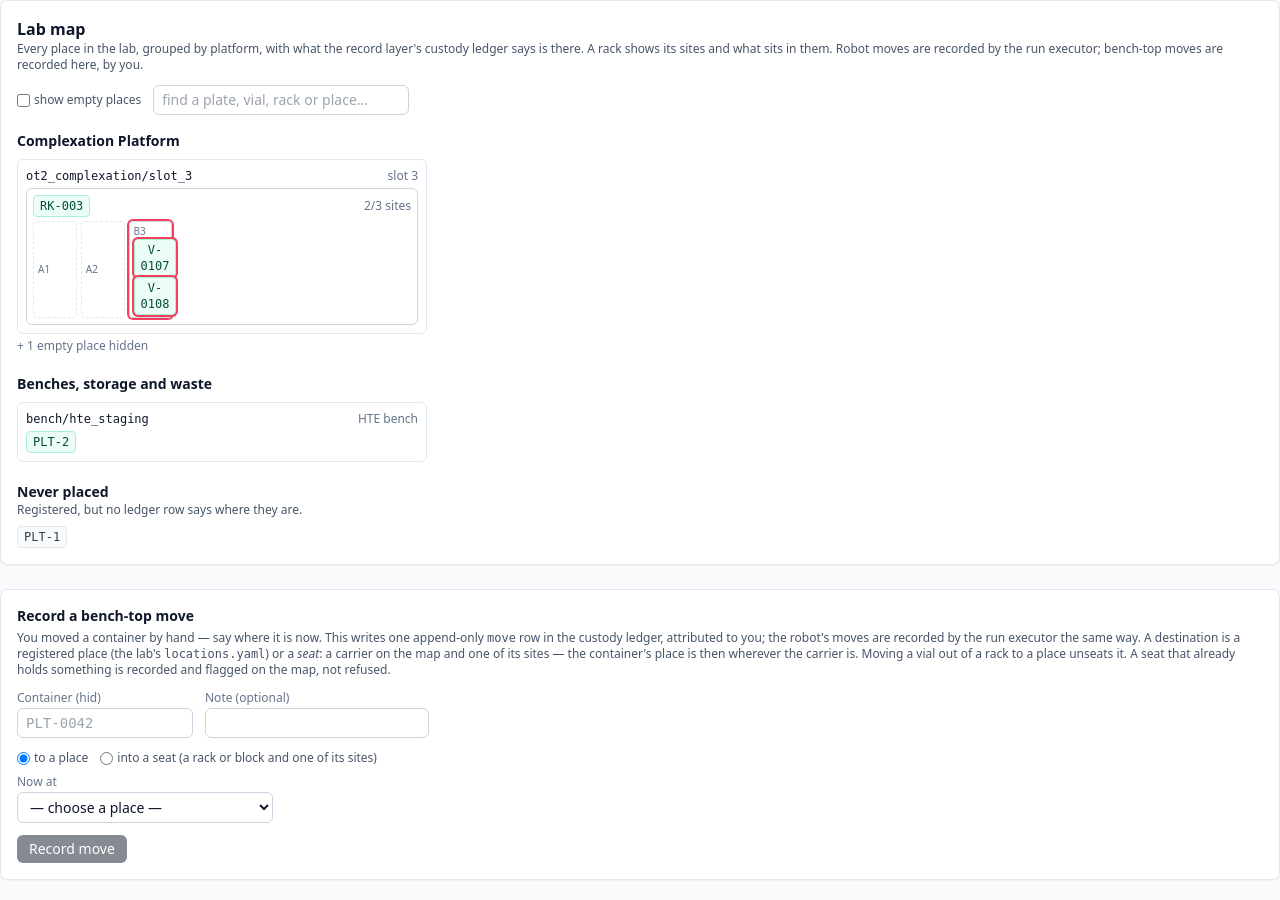
PlatesPanel (lab map) › finds a vial by hid through its rack and a place by name
The width and height of the screenshot is (1280, 900).
Expected: the button "PLT-2" is shown, x1=26 y1=431 x2=76 y2=453
Type "v-0108" into the field named "Find a container or place" at (281, 100), box x1=153 y1=85 x2=409 y2=115
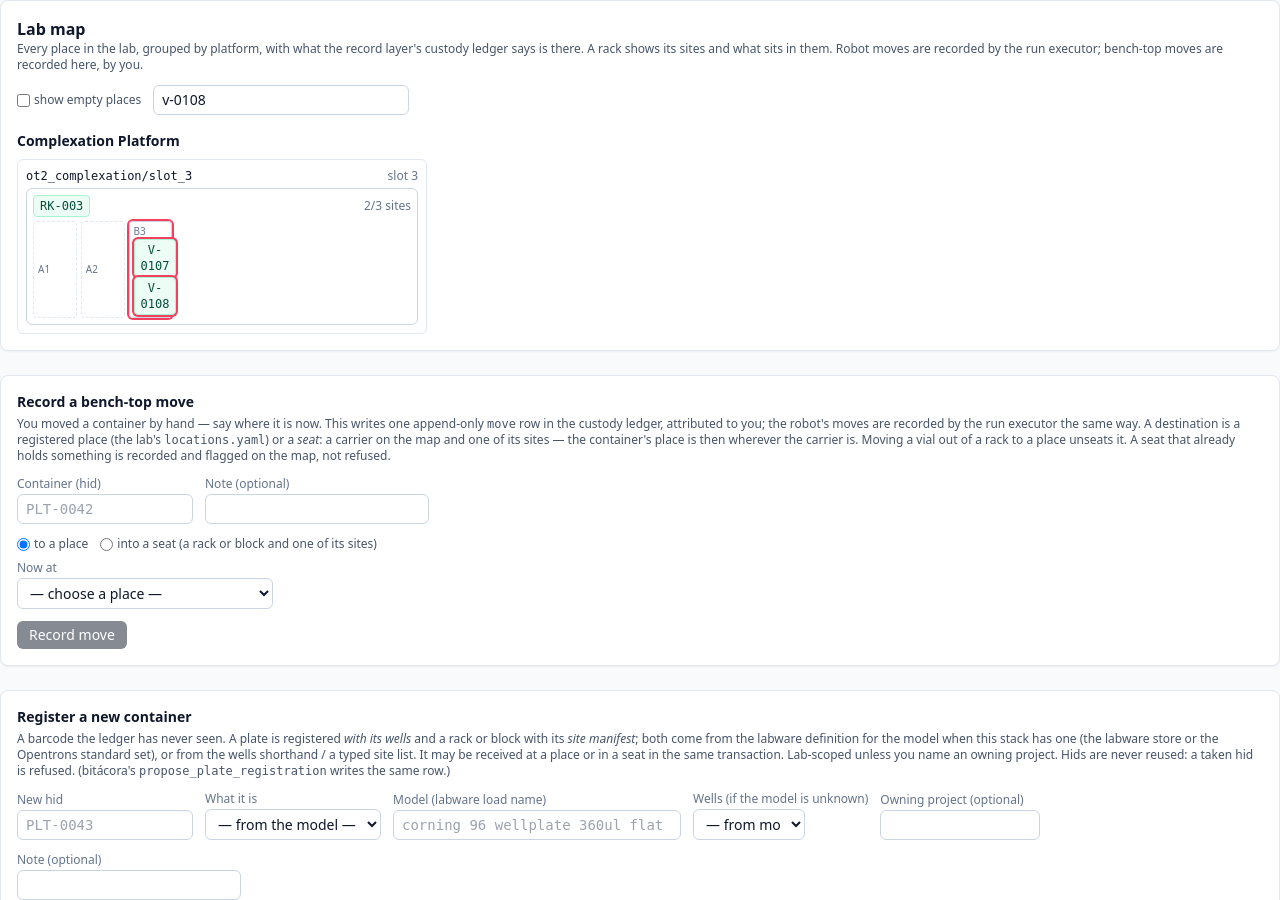
Expected: the element with test id "adapter-RK-003" is shown, x1=26 y1=188 x2=418 y2=325
Expected: the button "PLT-2" is gone
Expected: the heading "Never placed" is gone
Replace the text in the field named "Find a container or place" with "bench/" at (281, 100), box x1=153 y1=85 x2=409 y2=115
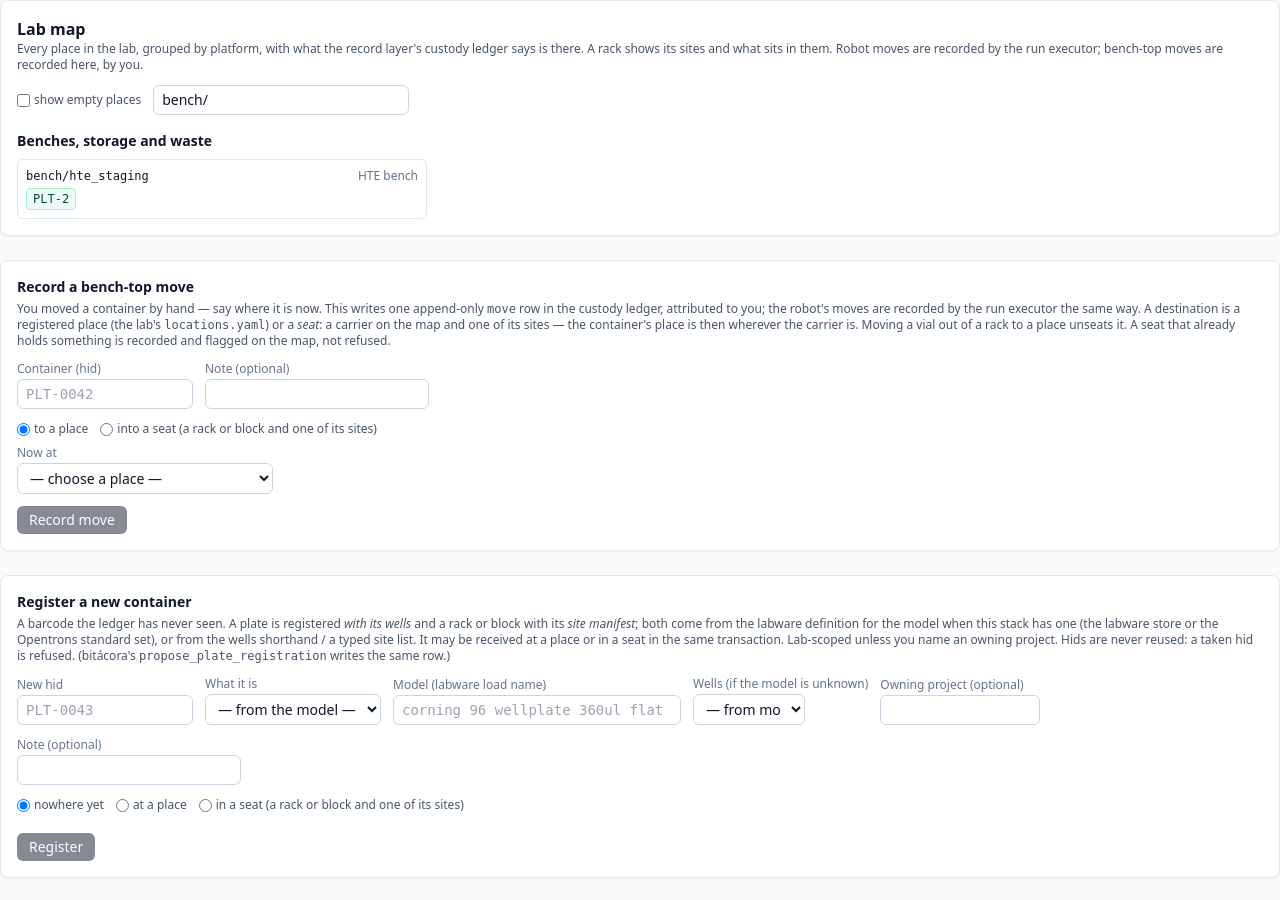
Expected: the button "PLT-2" is shown, x1=26 y1=188 x2=76 y2=210
Expected: the element with test id "adapter-RK-003" is gone
Replace the text in the field named "Find a container or place" with "zzz" at (281, 100), box x1=153 y1=85 x2=409 y2=115
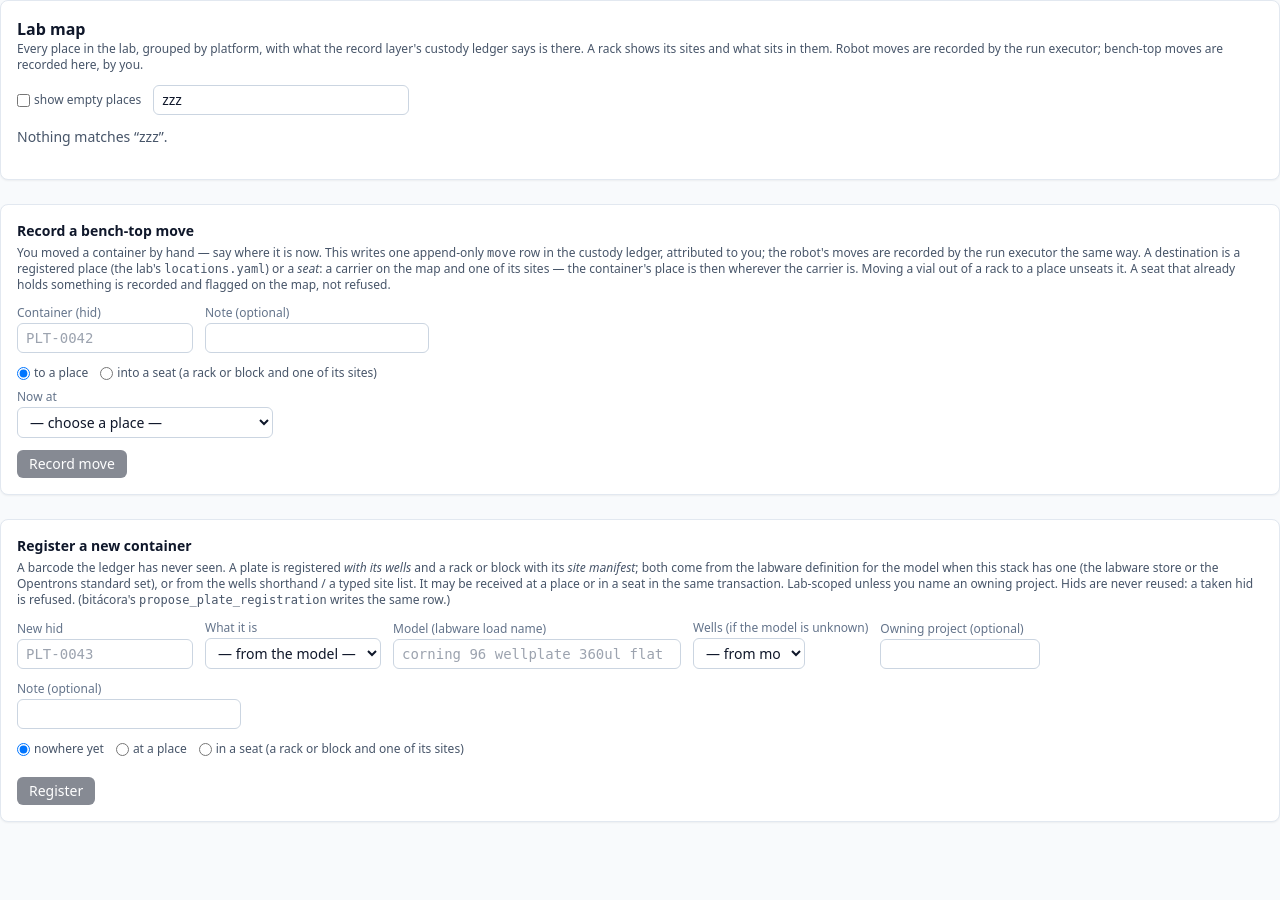
Expected: the text "Nothing matches “zzz”." is shown, x1=17 y1=127 x2=168 y2=146
